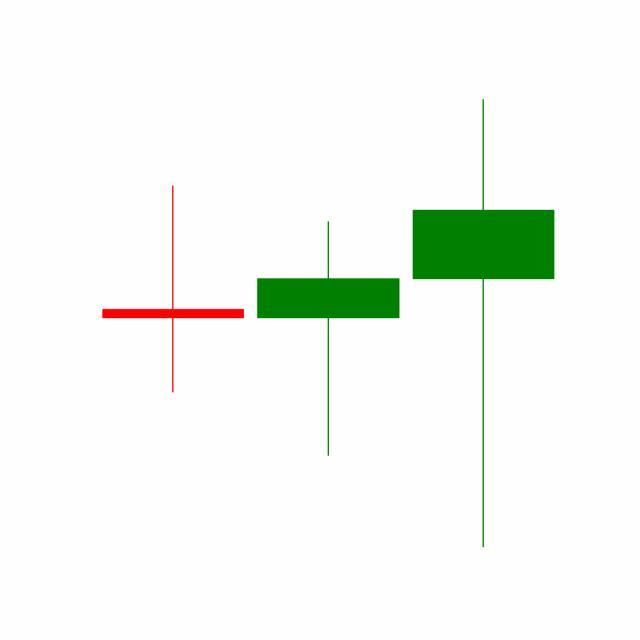Dragonfly Doji: (250, 219, 407, 460)
